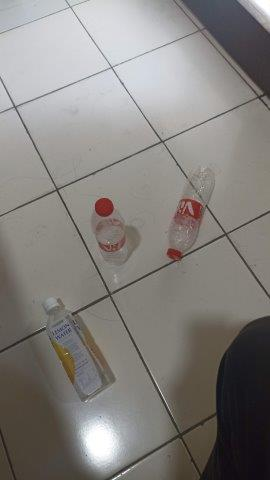botolplastik: (40, 297, 111, 402), (163, 167, 213, 261), (91, 197, 130, 265)
